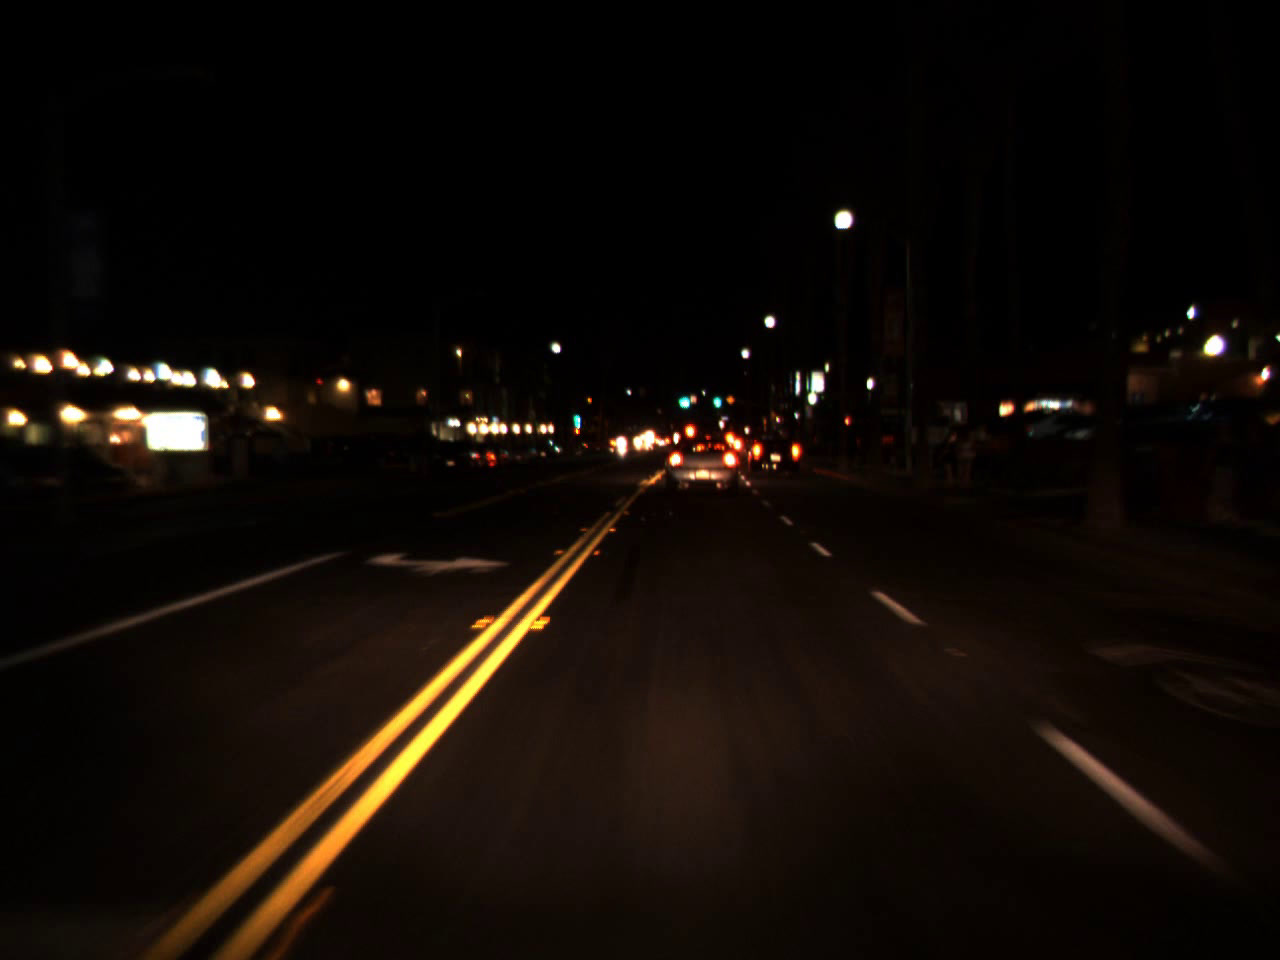go: (675, 384, 691, 411), (710, 384, 722, 411), (571, 404, 580, 428)
